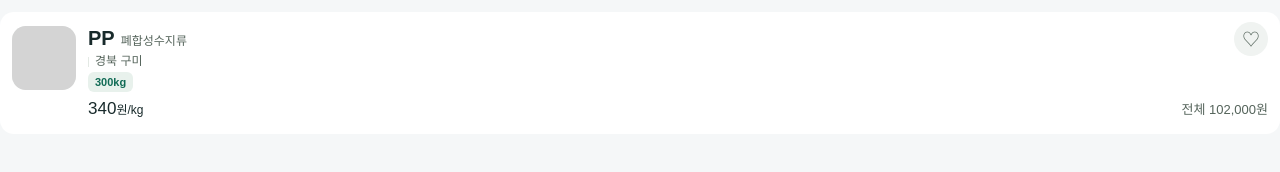
매물 표시: 주 재질 크게, 품목 작게, kg당 가격만, 등급 없음, 상세 열기와 찜은 독립된 버튼, 담기는 상세에서
Later steps or results of the test are not shown.
Check: the text with class "buyer-listing-material" reads "PP", box [88,27,115,49]
Check: the text with class "buyer-listing-item" reads "폐합성수지류", box [121,34,187,48]
Click the button named "PP 찜하기" at [1251, 39], box [1234,22,1268,56]
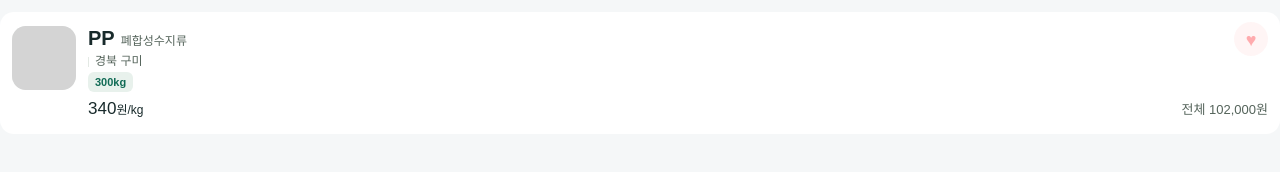
Check: the button named "PP 찜 해제" is pressed, box [1234,22,1268,56]
